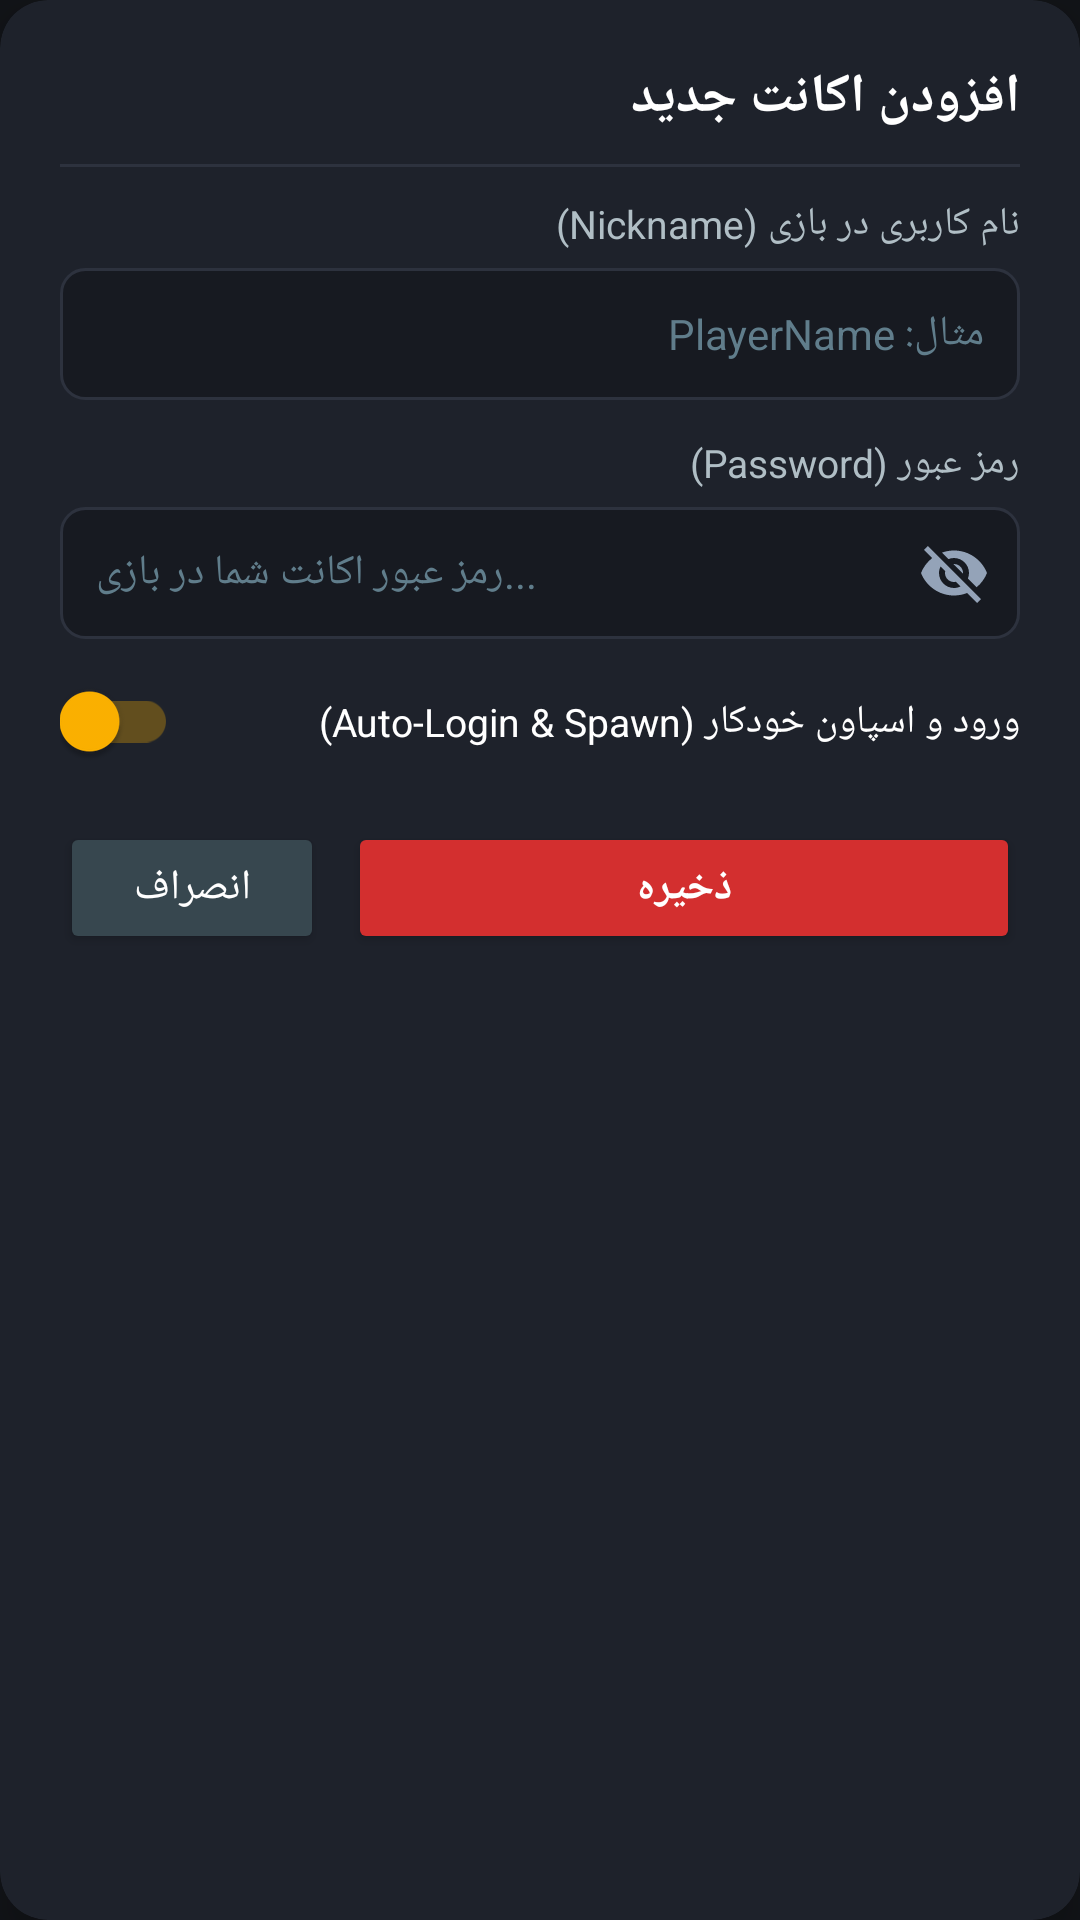

Named icons in this screenshot (1080 x 1920) and their bounding boxes, (x1, y1, x2, y2):
visibility off: (888, 507, 1020, 639)
